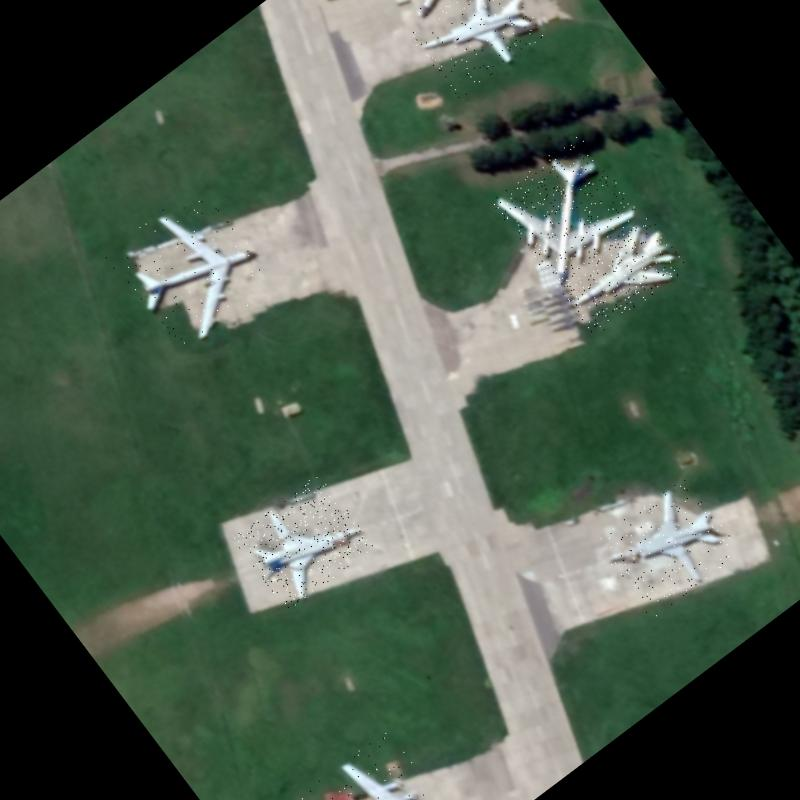A12: (594, 474, 742, 619), (232, 472, 375, 612), (554, 212, 688, 338), (409, 0, 549, 100)
A17: (102, 181, 279, 359), (490, 132, 647, 290), (284, 727, 472, 800), (362, 0, 536, 42)
